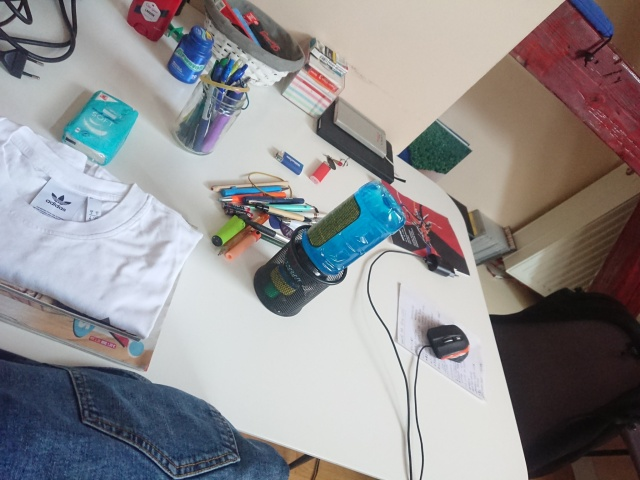Vindi Iso Sport Forest Strawberries 500mL: (262, 178, 408, 299)
